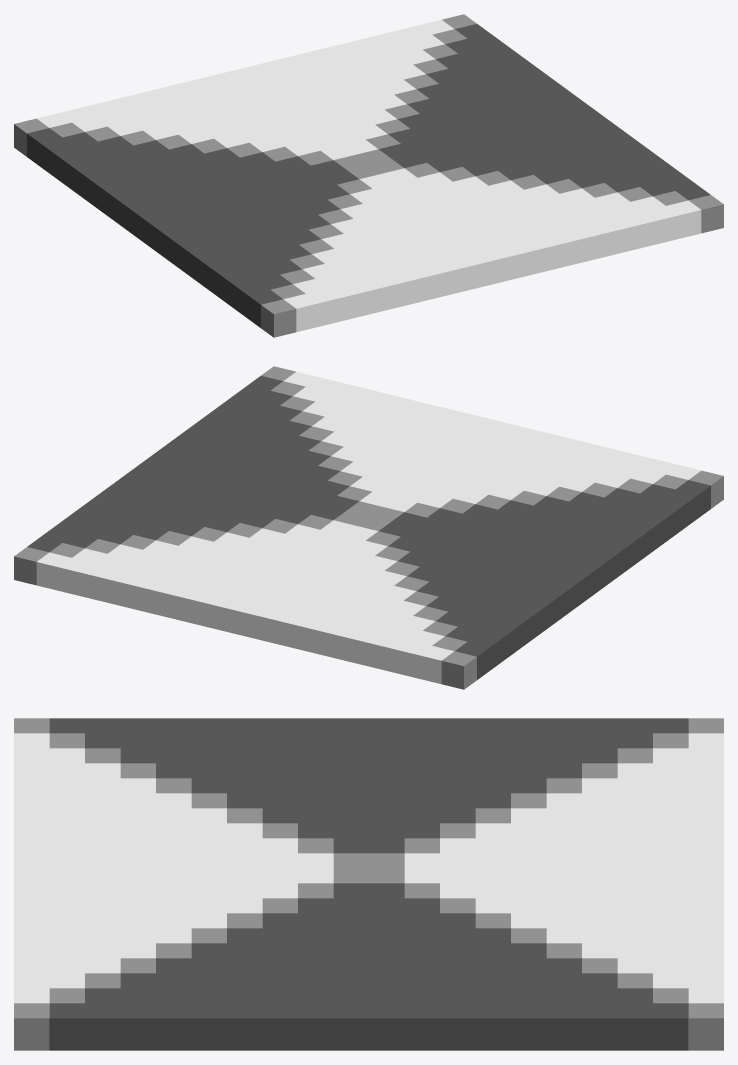
The model's file is Test Airport-0.obj.
3 views of the same model, one above another, from view 1: azimuth 30°, elevation 25°; view 2: azimuth 150°, elevation 25°; view 3: azimuth 270°, elevation 25° (orthographic). The views are drawn at different scales.
Parts seen in each view (by area): view 1: Test Airport-0; view 2: Test Airport-0; view 3: Test Airport-0.
Boxes of the visible parts, box(x1,y1,x2,y2) form: Test Airport-0: box(14, 14, 723, 337); Test Airport-0: box(14, 366, 723, 689); Test Airport-0: box(14, 718, 723, 1050).
Size of the model in its own units: 20 by 1 by 20.
Materials: 1 (1 with a texture image).
